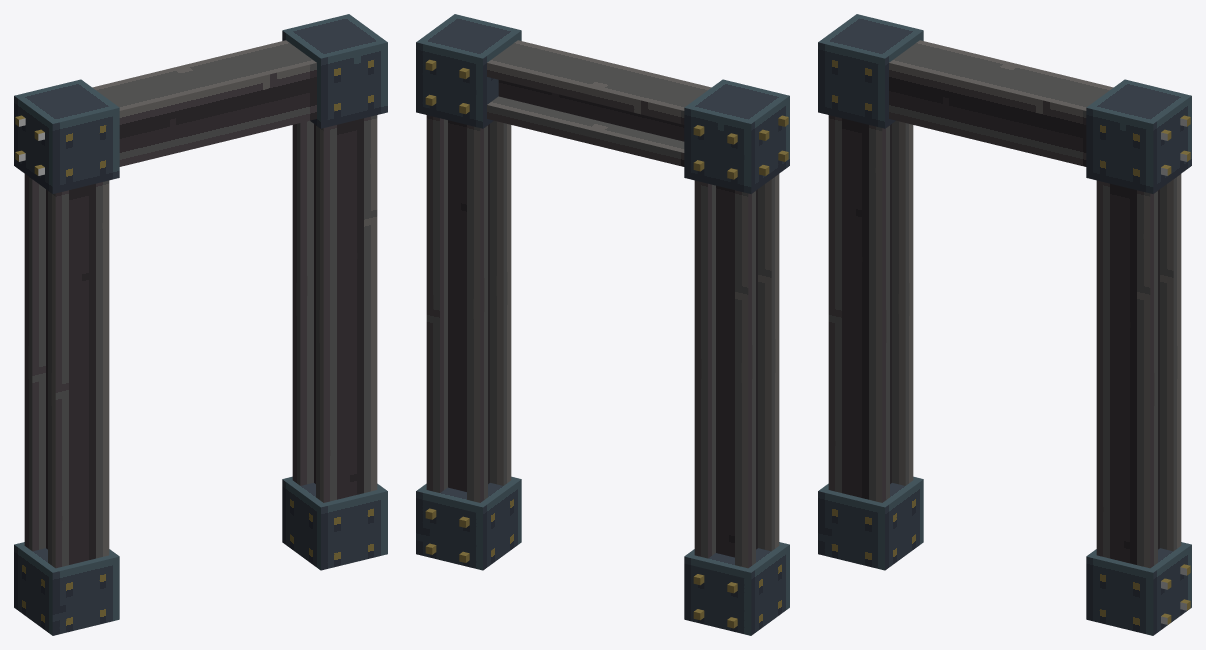
File: indust_big_door_frameao.fezao.glb
3 renders of one model, left to right at view 1: azimuth 30°, elevation 25°; view 2: azimuth 150°, elevation 25°; view 3: azimuth 330°, elevation 25°, orthographic.
Visible parts, largest first — view 1: INDUST_BIG_DOOR_FRAMEAO; view 2: INDUST_BIG_DOOR_FRAMEAO; view 3: INDUST_BIG_DOOR_FRAMEAO.
Part boxes in pixels (left/top/right/bottom): INDUST_BIG_DOOR_FRAMEAO: left=14, top=14, right=387, bottom=635; INDUST_BIG_DOOR_FRAMEAO: left=416, top=14, right=789, bottom=635; INDUST_BIG_DOOR_FRAMEAO: left=818, top=14, right=1191, bottom=635.
Bounding box in the file's own units: 3.25 × 4.56 × 0.6875.
Materials: 1 (1 with a texture image).
